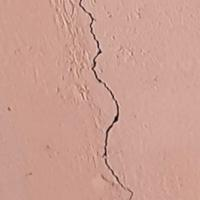crack: (75, 0, 137, 199)
